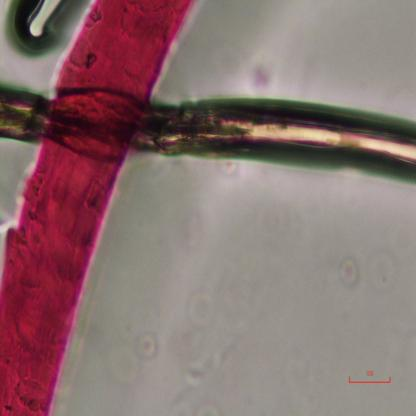Air bubble: (10, 0, 64, 54)
Background material: (171, 280, 218, 339), (180, 361, 243, 394), (364, 240, 398, 296), (126, 327, 160, 366), (248, 65, 277, 96), (337, 257, 364, 290)
Hair textile: (0, 0, 198, 416)
Microfibre: (0, 82, 416, 187)
